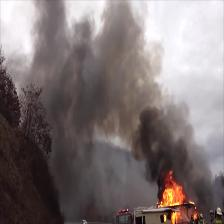fire: (159, 184, 188, 208)
smoke: (37, 55, 150, 125), (149, 132, 197, 170)
